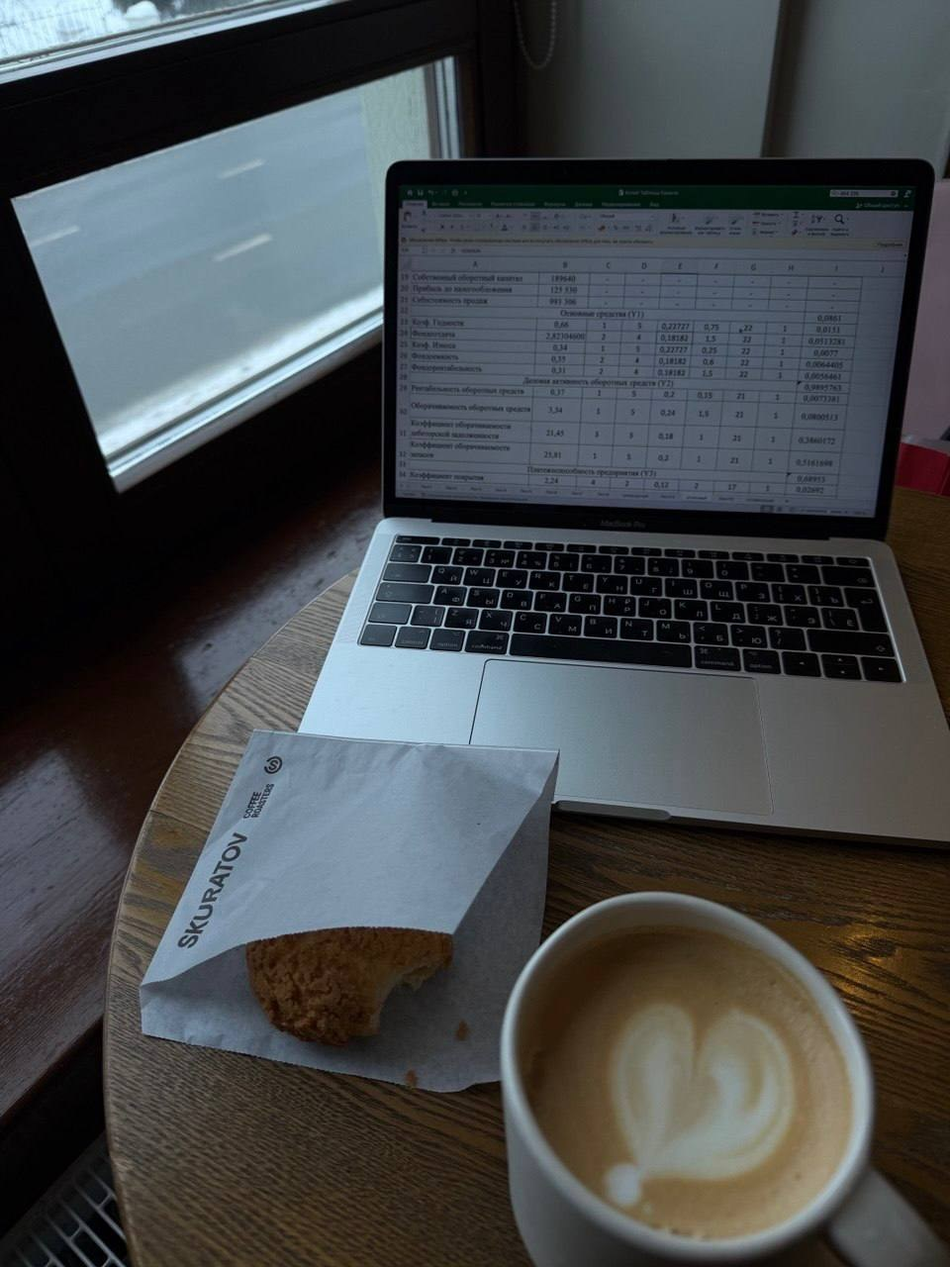laptop: (296, 157, 949, 848)
